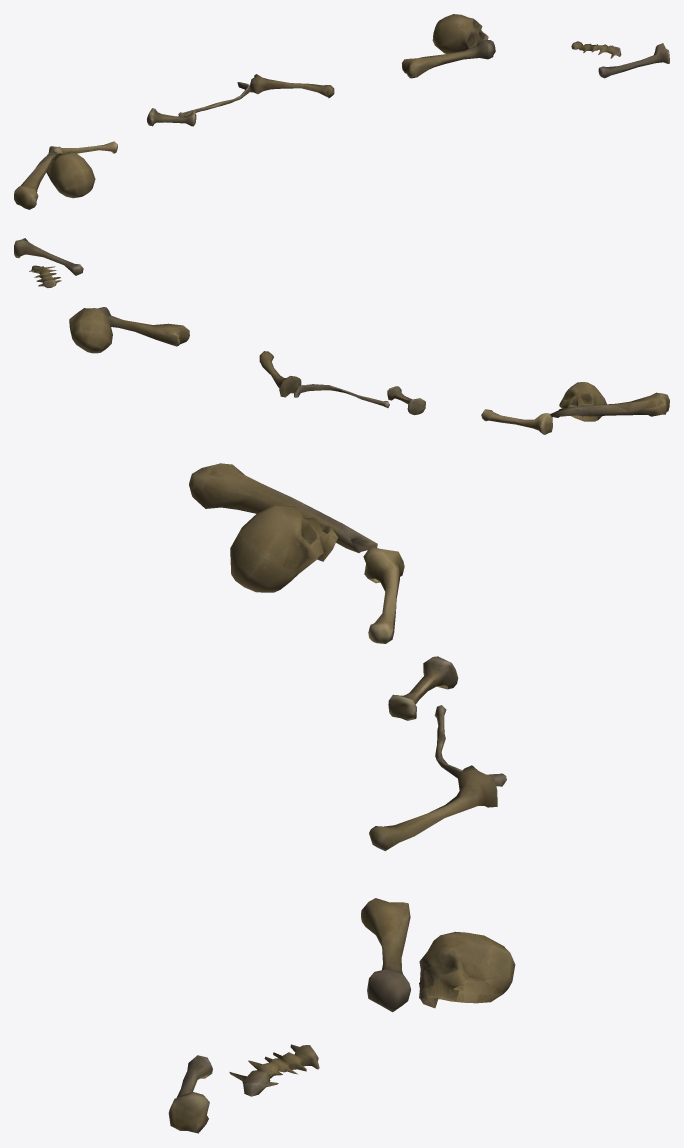
Rendered from badside_bones005.fbx.
The picture shows the model from 3 angles, top to bottom: view 1: azimuth 30°, elevation 25°; view 2: azimuth 150°, elevation 25°; view 3: azimuth 270°, elevation 25°; orthographic projection. The views are drawn at different scales.
Parts seen in each view (by area): view 1: badside_bones005; view 2: badside_bones005; view 3: badside_bones005.
Boxes of the visible parts, <box> form: badside_bones005: <box>14,14,669,209</box>; badside_bones005: <box>14,238,669,434</box>; badside_bones005: <box>168,463,515,1133</box>.
Size of the model in its own units: 52499 by 3118 by 12228.
